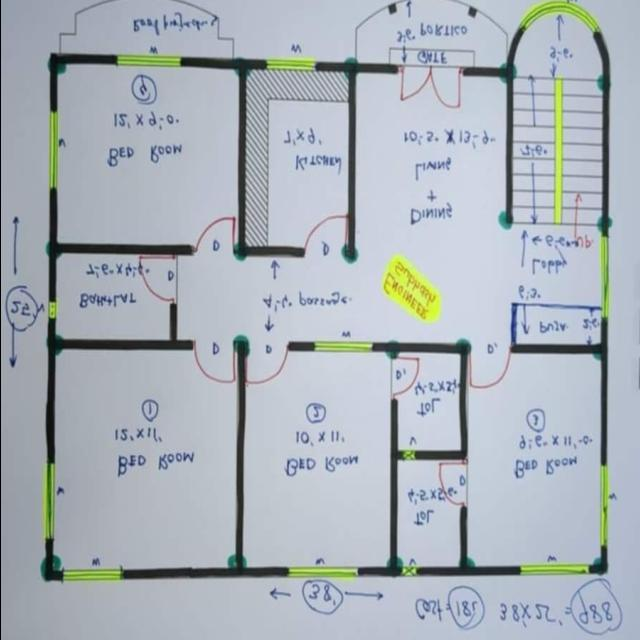column: (41, 44, 66, 81), (228, 50, 256, 80), (38, 548, 60, 586), (224, 552, 250, 584), (42, 228, 64, 264), (380, 552, 403, 584), (593, 207, 615, 240), (230, 328, 252, 360), (227, 236, 250, 266), (594, 67, 618, 95), (452, 334, 474, 362), (42, 328, 64, 356), (494, 207, 516, 234), (592, 336, 611, 366), (455, 554, 475, 582), (340, 240, 360, 268), (342, 54, 362, 81), (498, 61, 518, 87), (380, 338, 401, 362), (592, 556, 610, 580)
